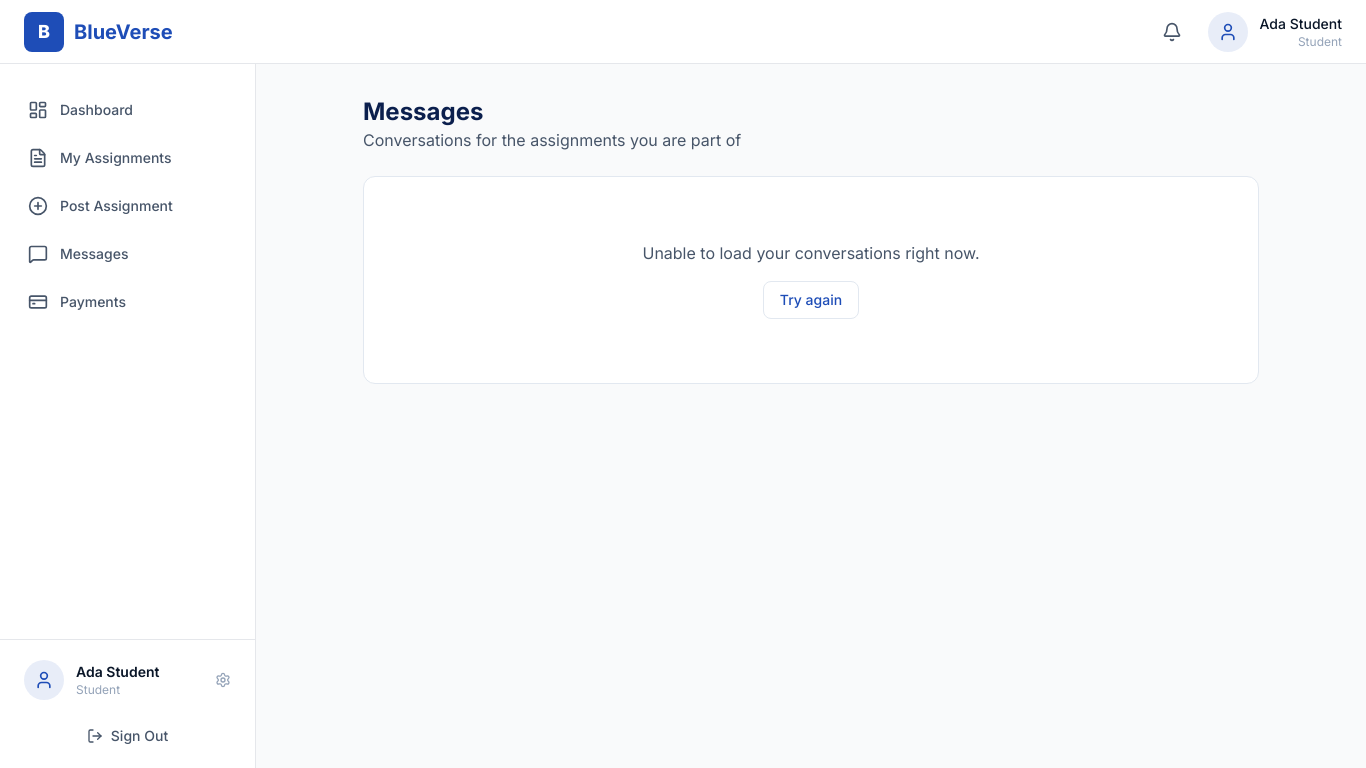
Test case: Messages inbox page › shows an error state with a retry that refetches
Expected: the text "Unable to load your conversations right now." is shown, [642, 243, 980, 263]
Step 1. Click the button "Try again" → (811, 300), box [763, 281, 859, 319]
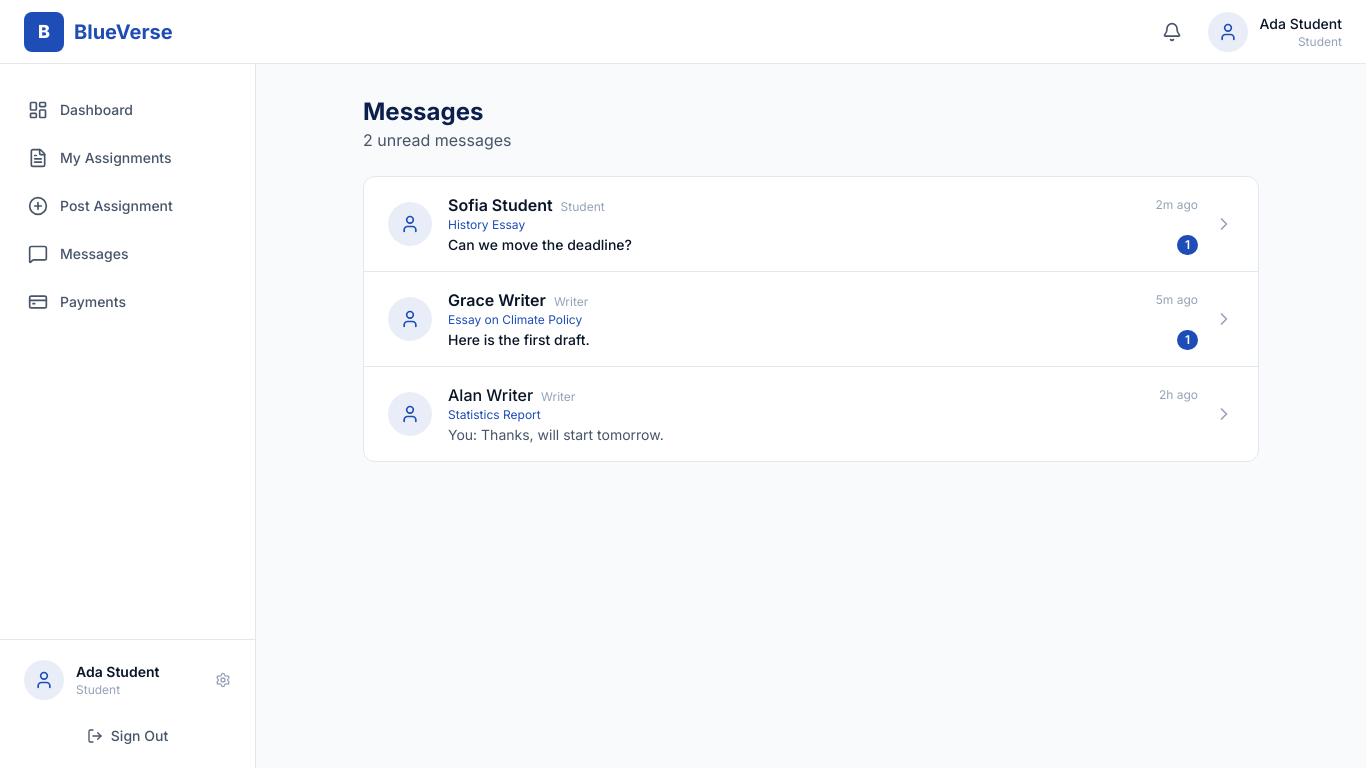
Now the number of list items is 3, box [364, 177, 1258, 271]; [364, 271, 1258, 366]; [364, 366, 1258, 461]
